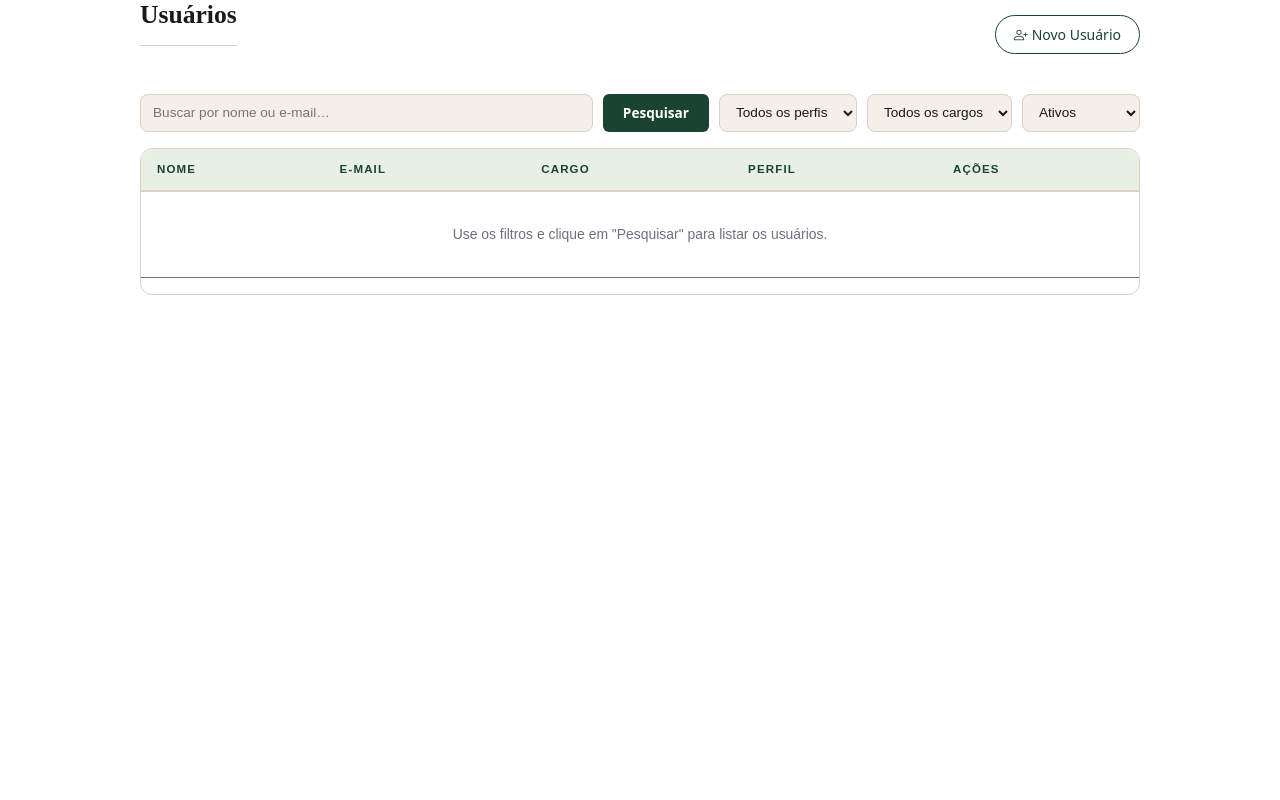
Test: UserList — restaurar desacoplado do e-mail › excluído SEM e-mail abre a RestaurarUsuarioModal
Select "Excluídos" in the 3rd dropdown. click: (1081,113)
box: [1022,94,1140,132]
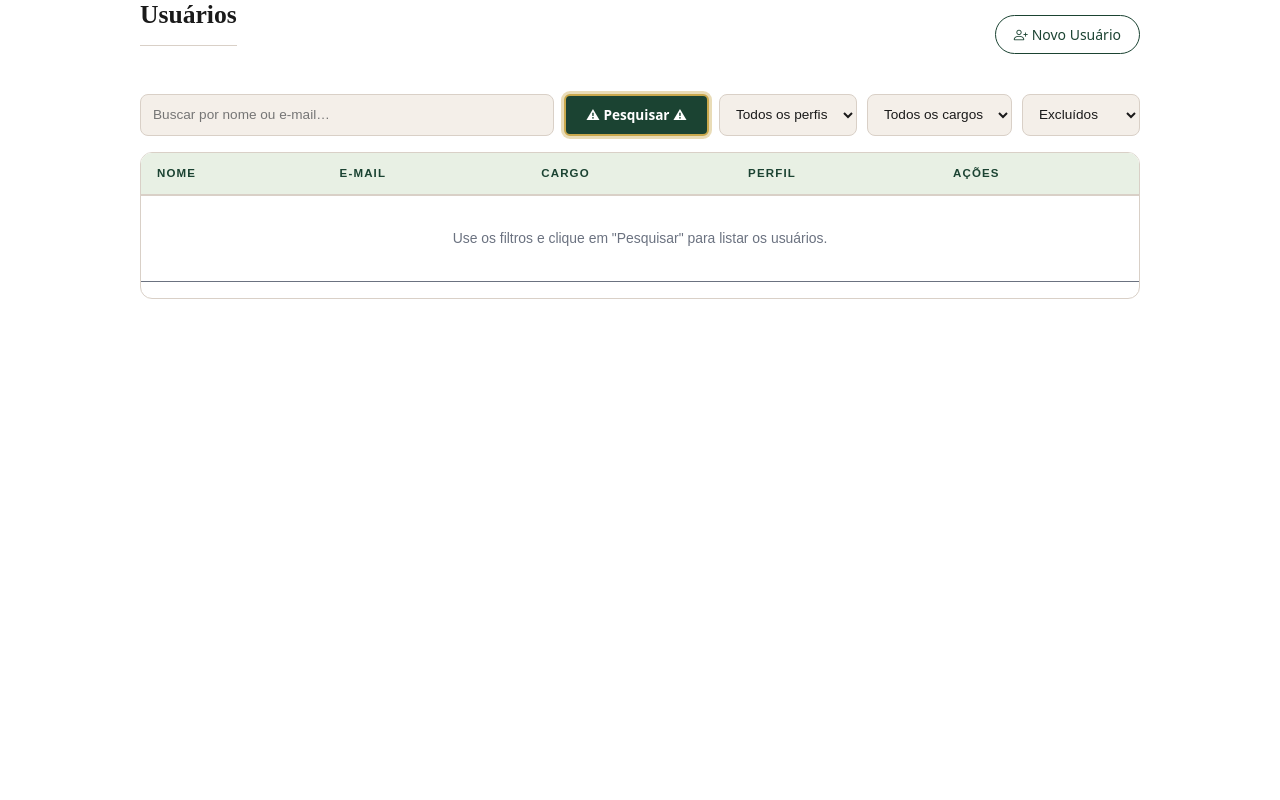
Click the button with class "user-list-btn-filtrar". click: (636,115)
box: [564,94,709,136]
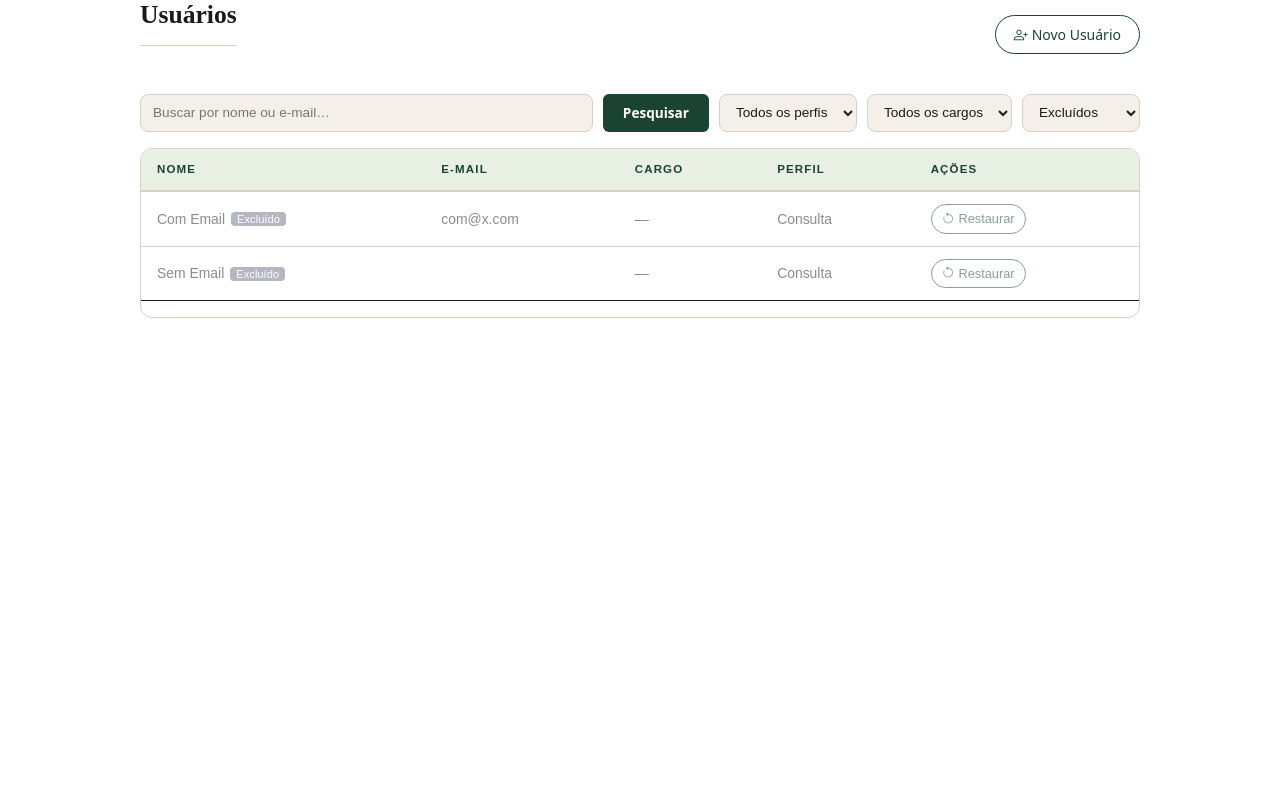
Now the text "Com Email" is shown, box [157,210,225,226]
Click the button with class "btn-acao-editar" in the row of "Sem Email". click: (978,273)
box: [931,258,1026,288]
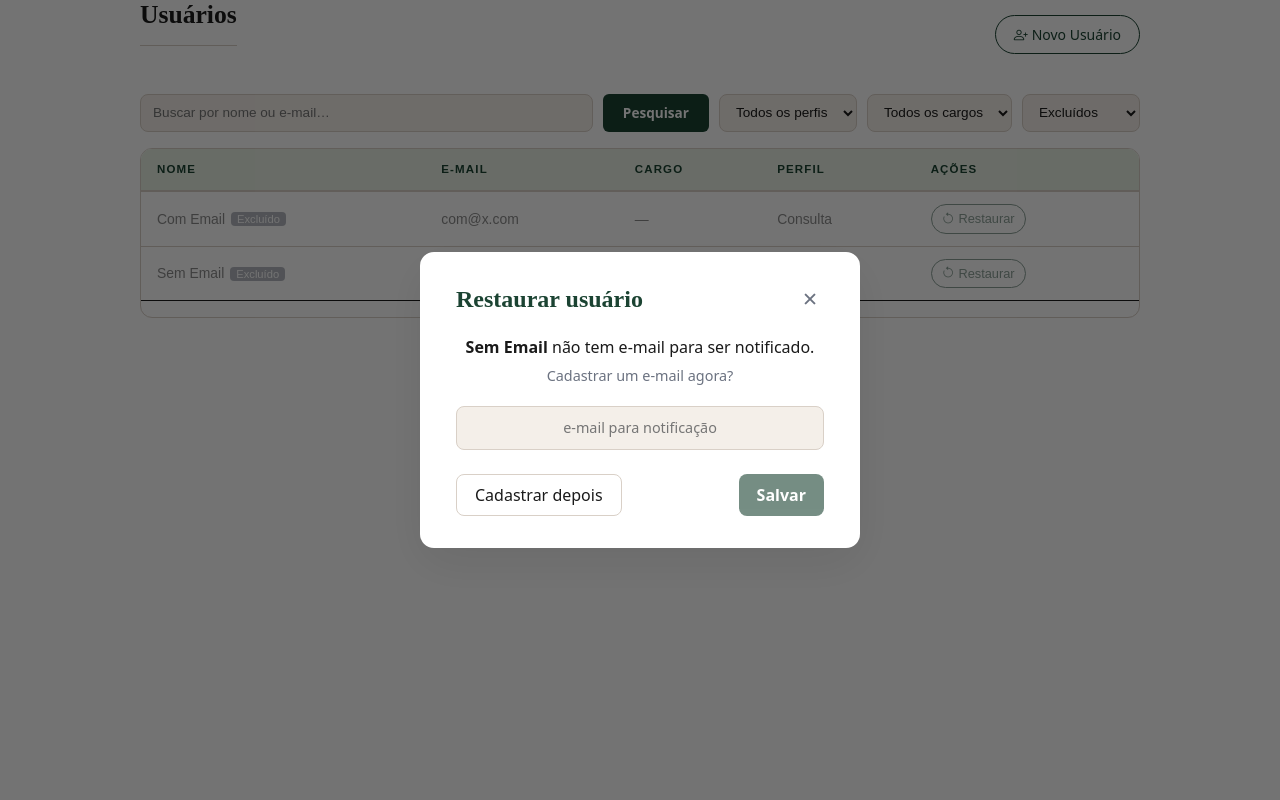
Now the text "Sem Email não tem e-mail para ser notificado." is shown, box [456,335,824,359]
